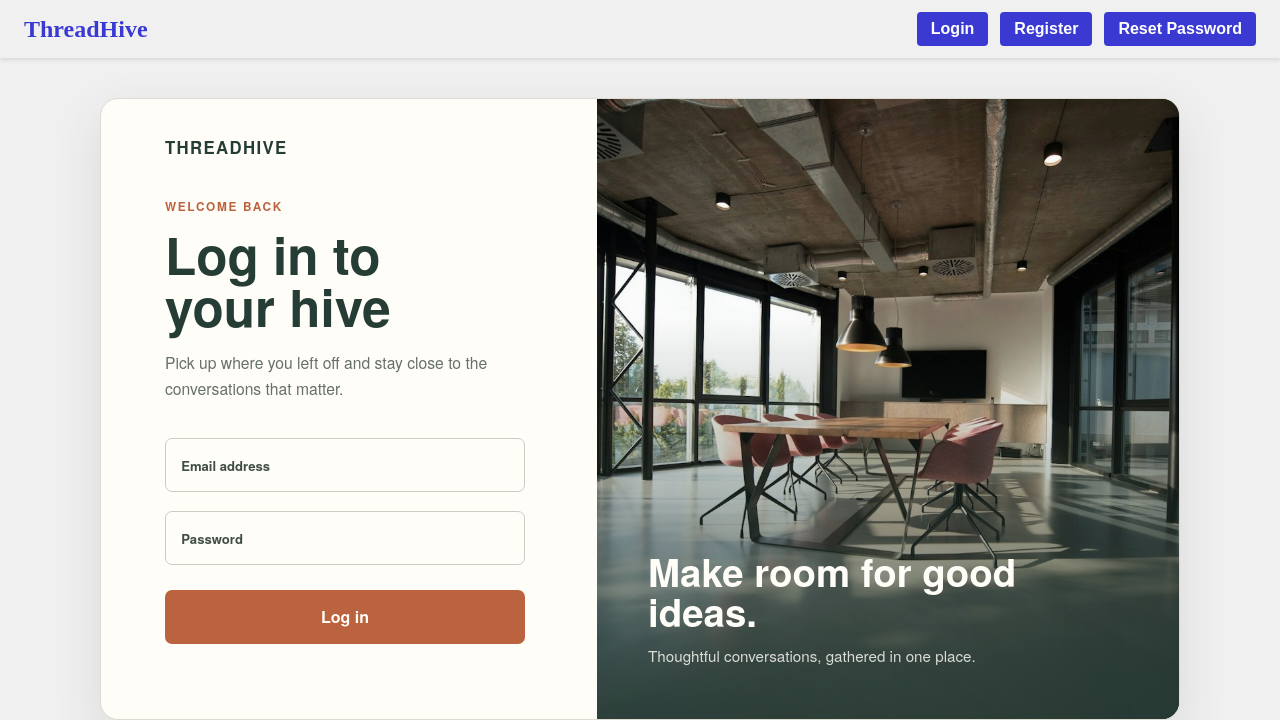
App navigation › navigates to the reset password page from the Header
Click the button "Reset Password": (1180, 29) [1104,12,1256,46]
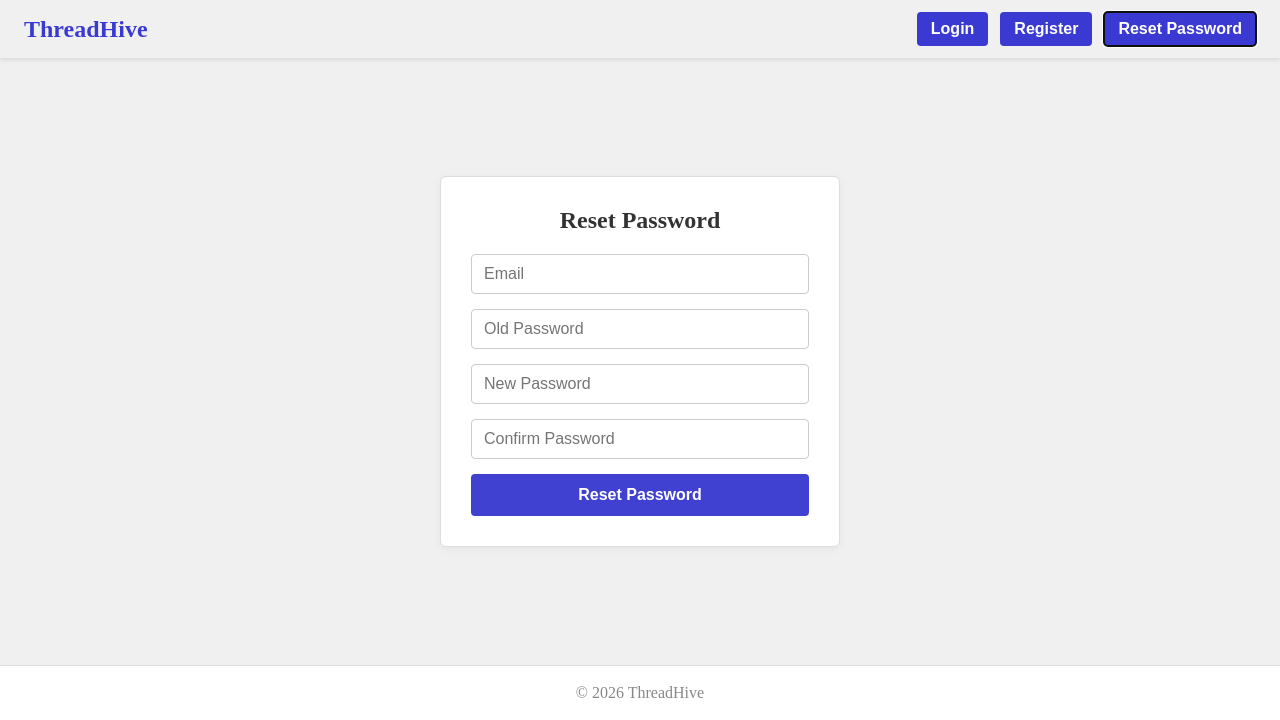
Expected: the heading "Reset Password" is shown, [560,207,720,233]
Expected: the password field labelled "Old Password" is shown, [471,309,809,349]
